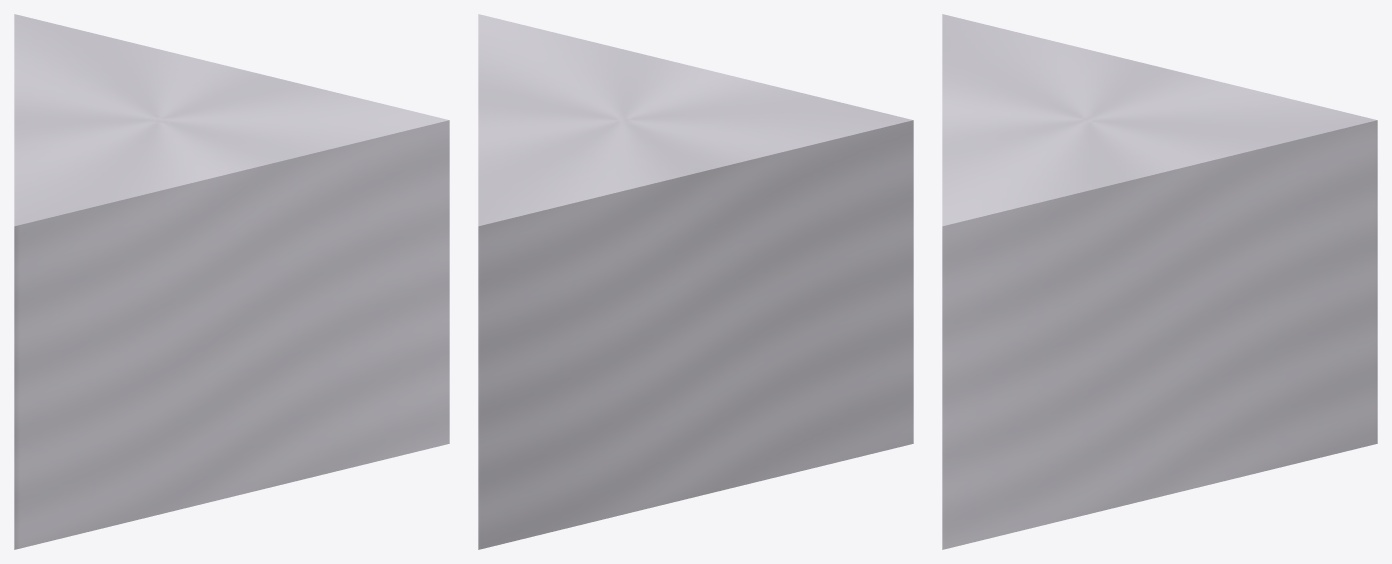
File: tier-t2.glb
The picture shows the model from 3 angles, left to right: view 1: azimuth 30°, elevation 25°; view 2: azimuth 150°, elevation 25°; view 3: azimuth 270°, elevation 25°; orthographic projection.
Parts seen in each view (by area): view 1: gem-t2-umbral-etched; view 2: gem-t2-umbral-etched; view 3: gem-t2-umbral-etched.
Boxes of the visible parts, x1,y1,x2,y2 form: gem-t2-umbral-etched: [14, 14, 449, 549]; gem-t2-umbral-etched: [478, 14, 913, 549]; gem-t2-umbral-etched: [942, 14, 1377, 549].
Bounding box in the file's own units: 0.2252 × 0.16 × 0.195.
Materials: 1 (1 with a texture image).
